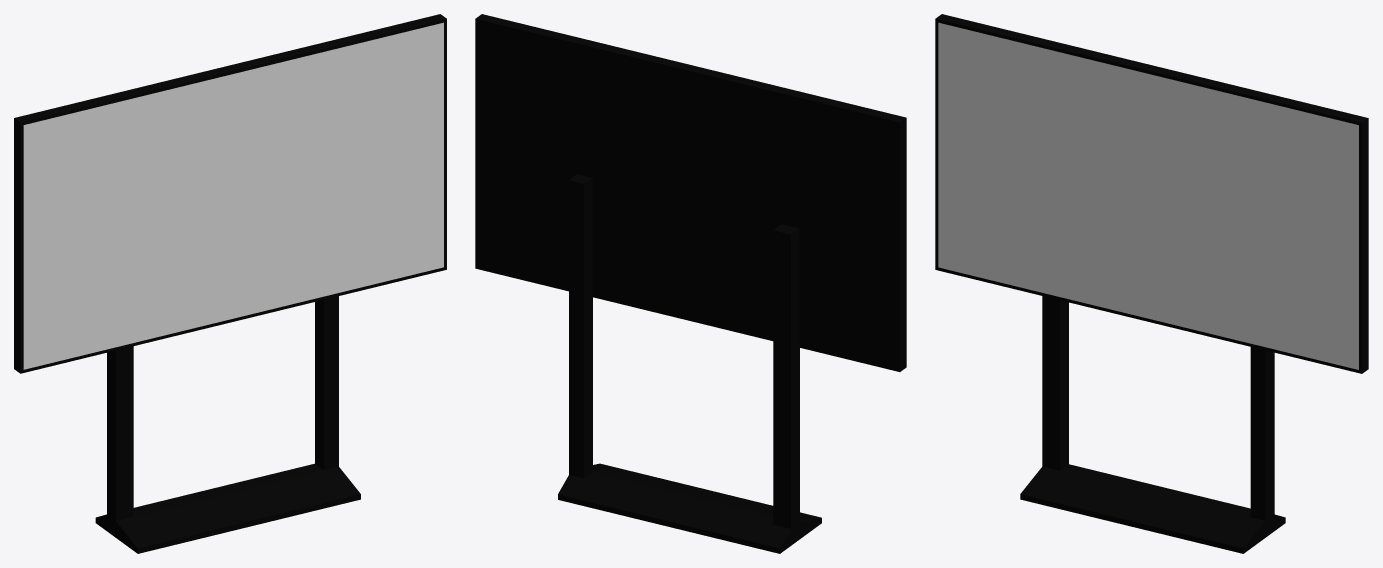
3 views of the same model, side by side, from view 1: azimuth 30°, elevation 25°; view 2: azimuth 150°, elevation 25°; view 3: azimuth 330°, elevation 25° (orthographic).
Visible parts, largest first — view 1: tv; view 2: tv; view 3: tv.
Part boxes in pixels (x1,y1,x2,y2): tv: (14,14,446,553); tv: (475,14,906,553); tv: (935,14,1368,553).
Size of the model in its own units: 246 by 245 by 42.29.
Materials: 2 (1 with a texture image).
